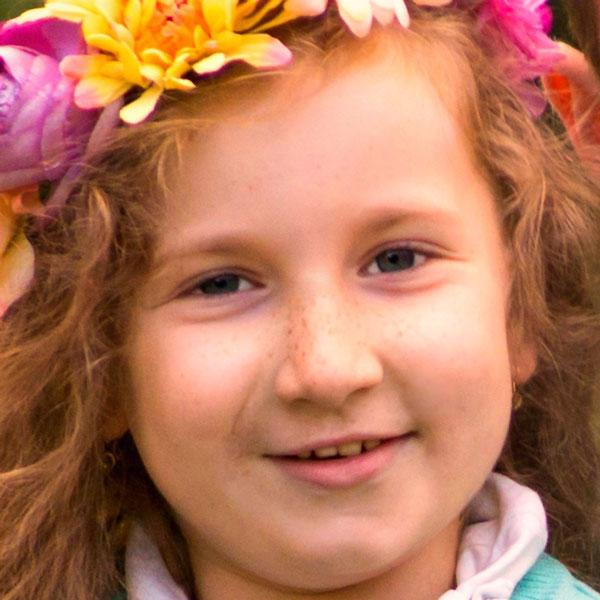Eyes: (150, 251, 279, 326), (343, 224, 458, 295)
